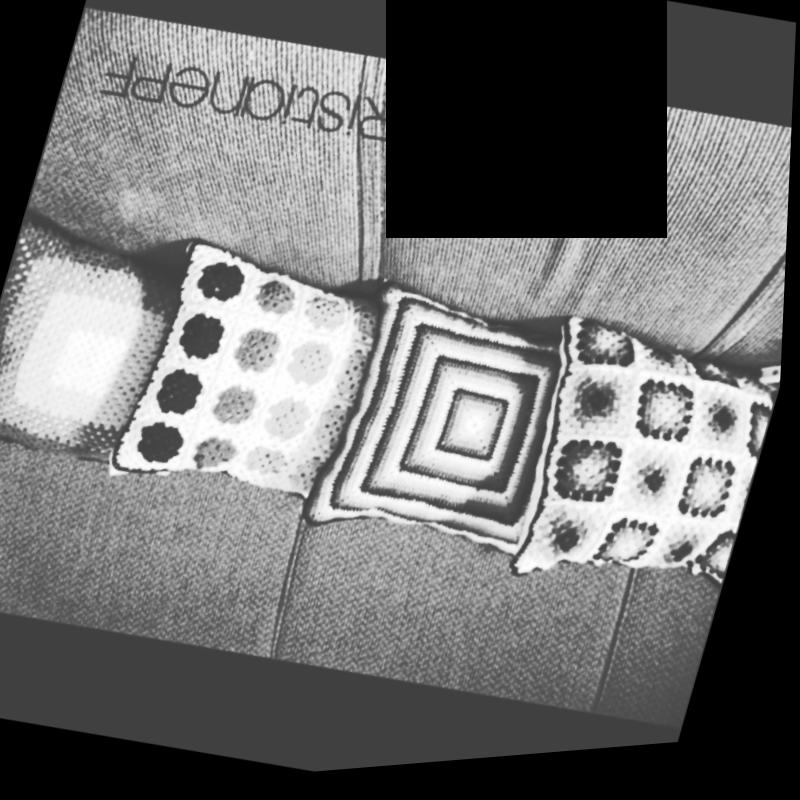pillow: (497, 315, 787, 640), (113, 222, 405, 537), (302, 277, 586, 593), (0, 195, 196, 481)
